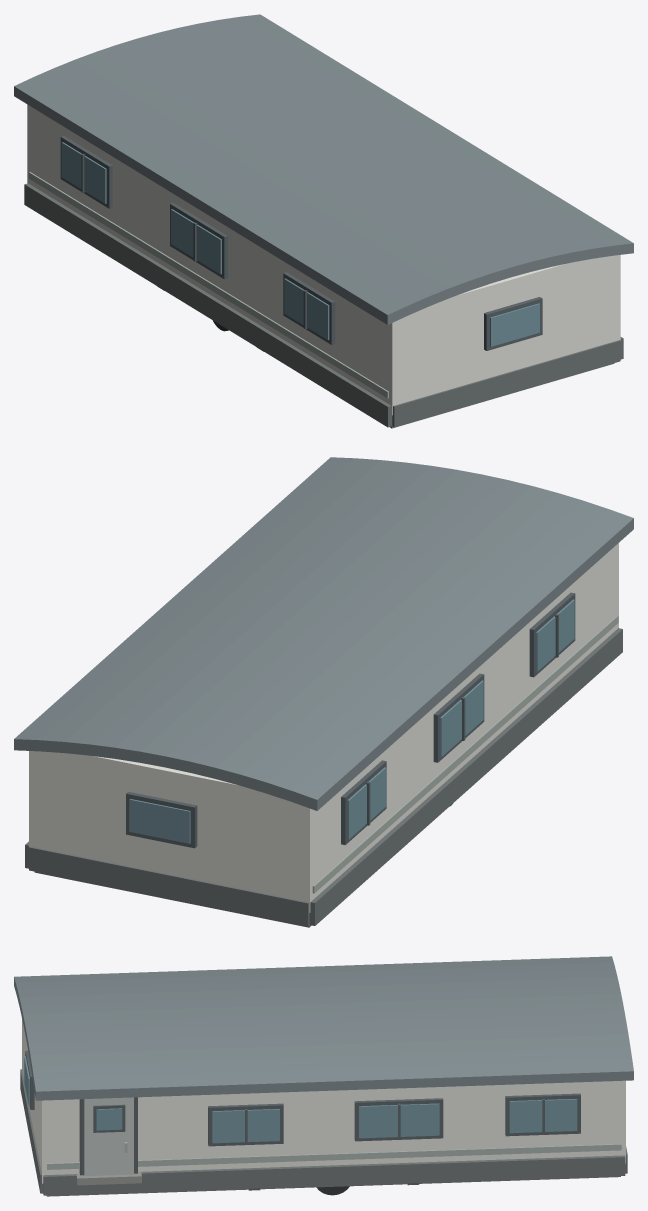
The picture shows the model from 3 angles, top to bottom: view 1: azimuth 30°, elevation 25°; view 2: azimuth 150°, elevation 25°; view 3: azimuth 270°, elevation 25°; orthographic projection. The views are drawn at different scales.
Visible parts, largest first — view 1: shallow_crowned_roof, main_caravan_body, lower_side_skirt_negative, lower_end_skirt_positive, side_stripe_negative, negative_side_window_2_glass, negative_side_window_1_glass, negative_side_window_3_glass, front_end_window_glass, front_end_window_frame, negative_side_window_1_frame, negative_side_window_3_frame (+1 smaller); view 2: shallow_crowned_roof, main_caravan_body, lower_side_skirt_negative, lower_end_skirt_negative, side_stripe_negative, rear_end_window_glass, negative_side_window_2_glass, negative_side_window_1_glass, negative_side_window_3_glass, rear_end_window_frame, negative_side_window_2_frame, negative_side_window_3_frame (+1 smaller); view 3: shallow_crowned_roof, main_caravan_body, lower_side_skirt_positive, side_stripe_positive, entrance_door_panel, positive_side_window_2_glass, positive_side_window_1_glass, positive_side_window_3_glass, positive_side_window_2_frame, positive_side_window_3_frame, positive_side_window_1_frame, underframe_main (+5 smaller).
Boxes of the visible parts, x1,y1,x2,y2 form: shallow_crowned_roof: (14,14,633,324); main_caravan_body: (27,104,620,415); lower_side_skirt_negative: (24,183,392,427); lower_end_skirt_positive: (392,340,620,427); side_stripe_negative: (28,172,388,398); negative_side_window_2_glass: (171,209,221,274); negative_side_window_1_glass: (61,142,106,203); negative_side_window_3_glass: (284,278,329,339); front_end_window_glass: (490,303,539,346); front_end_window_frame: (484,297,542,350); negative_side_window_1_frame: (60,136,112,208); negative_side_window_3_frame: (283,272,335,344); shallow_crowned_roof: (14,457,633,810); main_caravan_body: (29,543,618,912); lower_side_skirt_negative: (309,628,622,925); lower_end_skirt_negative: (29,846,309,926); side_stripe_negative: (312,615,618,893); rear_end_window_glass: (129,799,190,843); negative_side_window_2_glass: (440,680,483,756); negative_side_window_1_glass: (347,767,386,839); negative_side_window_3_glass: (536,599,574,671); rear_end_window_frame: (126,791,197,848); negative_side_window_2_frame: (433,673,484,762); negative_side_window_3_frame: (529,592,575,677); shallow_crowned_roof: (14,956,633,1100); main_caravan_body: (22,1019,625,1183); lower_side_skirt_positive: (43,1155,625,1195); side_stripe_positive: (47,1144,621,1169); entrance_door_panel: (84,1097,133,1176); positive_side_window_2_glass: (359,1103,439,1138); positive_side_window_1_glass: (509,1099,577,1133); positive_side_window_3_glass: (212,1109,279,1143); positive_side_window_2_frame: (354,1098,443,1141); positive_side_window_3_frame: (208,1103,283,1146); positive_side_window_1_frame: (505,1093,580,1136); underframe_main: (47,1176,620,1196).
Bounding box in the file's own units: 5.42 × 2.5 × 10.5.
